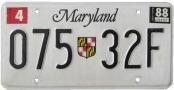placa de veiculo: (3, 0, 168, 88)
